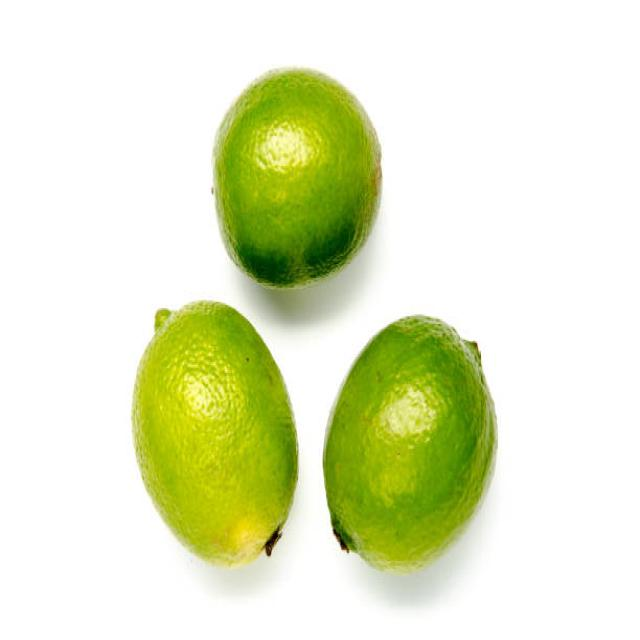Unripe: (321, 312, 499, 578), (131, 298, 301, 567), (208, 63, 384, 294)
